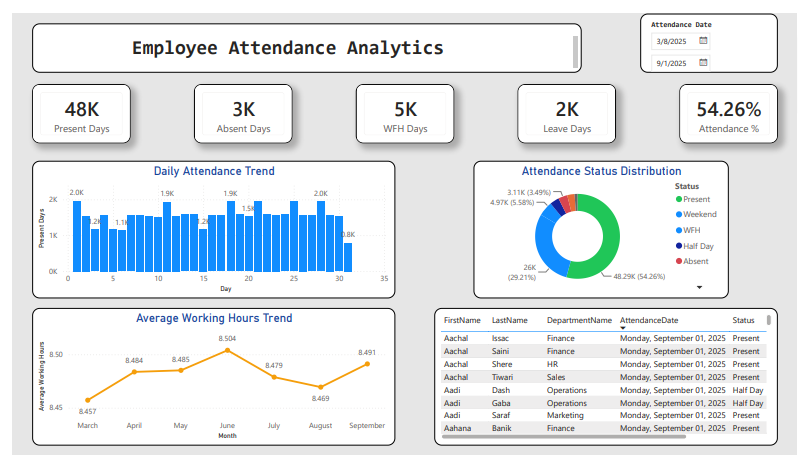

The dashboard page shown, as its layout file describes it:
{"tool":"powerbi","page":{"name":"Attendance Analytics","canvas":[1280,720],"ordinal":1},"visuals":[{"type":"textbox","box":[32,16,896,80],"z":0},{"type":"slicer","fields":{"Values":["Attendance.AttendanceDate"]},"box":[1024,0,224,96],"z":1000},{"type":"cardVisual","fields":{"Data":["Measures (2).Present Days"]},"box":[31.6,114.6,160,96],"z":2000},{"type":"cardVisual","fields":{"Data":["Measures (2).Absent Days"]},"box":[295.6,114.6,160,96],"z":3000},{"type":"cardVisual","fields":{"Data":["Measures (2).WFH Days"]},"box":[559.6,114.6,160,96],"z":4000},{"type":"cardVisual","fields":{"Data":["Measures (2).Leave Days"]},"box":[823.6,114.6,160,96],"z":5000},{"type":"cardVisual","fields":{"Data":["Measures (2).Attendance %"]},"box":[1087.6,114.6,160,96],"z":6000},{"type":"clusteredColumnChart","title":"Daily Attendance Trend","fields":{"Category":["Attendance.AttendanceDate.Variation.Date Hierarchy.Day"],"Y":["Measures (2).Present Days"]},"box":[32,240,592,224],"z":7000},{"type":"donutChart","title":"Attendance Status Distribution","fields":{"Category":["Attendance.Status"],"Y":["CountNonNull(Attendance.AttendanceID)"]},"box":[752,240,416,224],"z":8000},{"type":"lineChart","title":"Average Working Hours Trend","fields":{"Category":["Attendance.AttendanceDate.Variation.Date Hierarchy.Month"],"Y":["Measures (2).Average Working Hours"]},"box":[32,480,592,224],"z":9000},{"type":"tableEx","fields":{"Values":["Employees.FirstName","Employees.LastName","Departments.DepartmentName","Attendance.AttendanceDate","Attendance.Status","Attendance.CheckIn","Attendance.CheckOut"]},"box":[688,480,560,224],"z":10000}]}

Visuals, with their boxes in screenshot pixels (x1, y1, x2, y2), scaled from the page's 1280x720 canvas onto the 811x466 screenshot:
textbox: l=20, t=10, r=588, b=62
slicer - Attendance.AttendanceDate: l=649, t=0, r=791, b=62
cardVisual - Measures (2).Present Days: l=20, t=74, r=121, b=136
cardVisual - Measures (2).Absent Days: l=187, t=74, r=289, b=136
cardVisual - Measures (2).WFH Days: l=355, t=74, r=456, b=136
cardVisual - Measures (2).Leave Days: l=522, t=74, r=623, b=136
cardVisual - Measures (2).Attendance %: l=689, t=74, r=790, b=136
"Daily Attendance Trend" clusteredColumnChart: l=20, t=155, r=395, b=300
"Attendance Status Distribution" donutChart: l=476, t=155, r=740, b=300
"Average Working Hours Trend" lineChart: l=20, t=311, r=395, b=456
tableEx - Employees.FirstName x Employees.LastName: l=436, t=311, r=791, b=456
